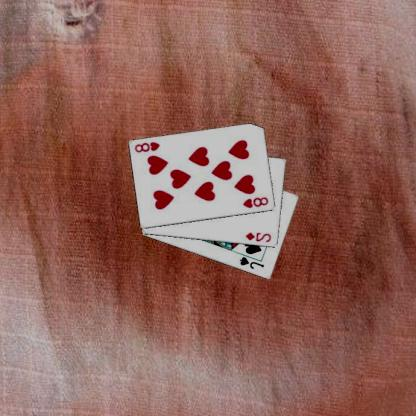2D: (245, 230, 274, 244)
8H: (134, 139, 163, 154), (242, 195, 272, 209)
JS: (239, 254, 267, 271)
